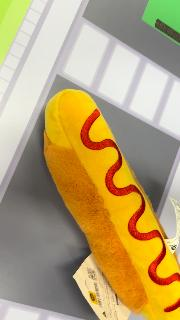hotdog: (43, 88, 179, 318)
